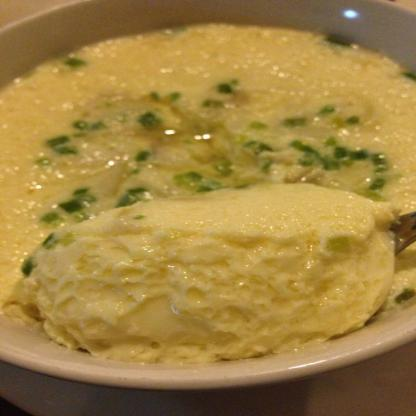Kaithoon: (6, 12, 416, 373)
